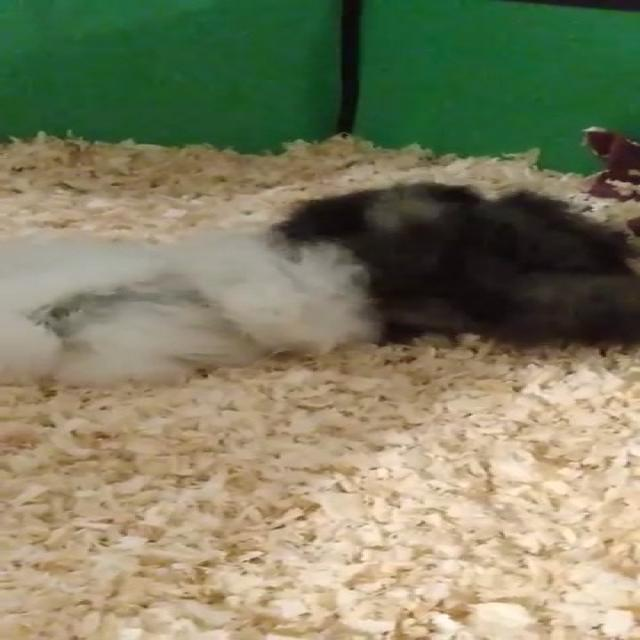allo preening: (0, 186, 640, 364)
